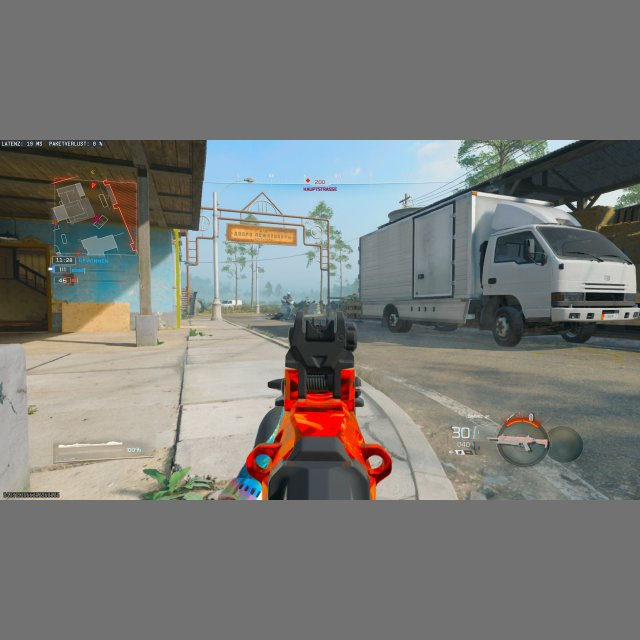player: (281, 292, 295, 320)
